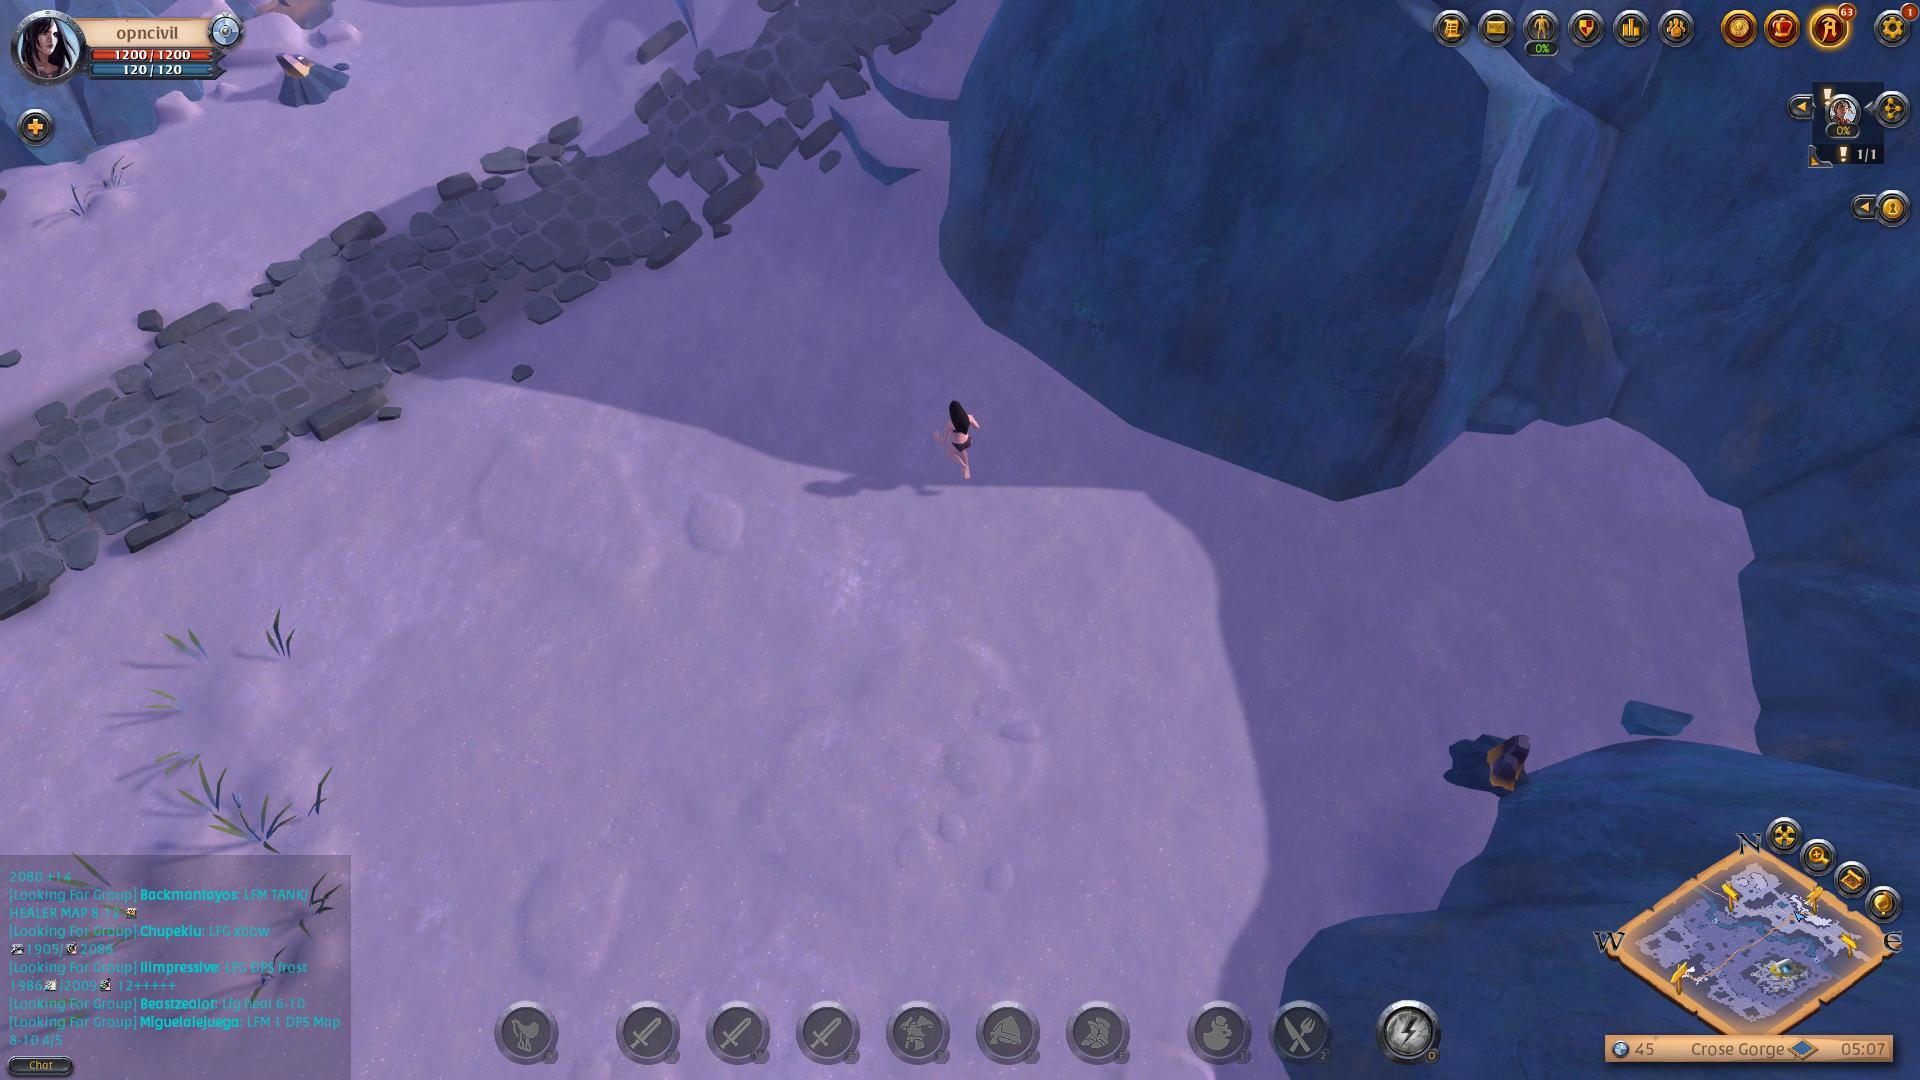copper_ore: (1447, 719, 1531, 802), (268, 44, 347, 113)
